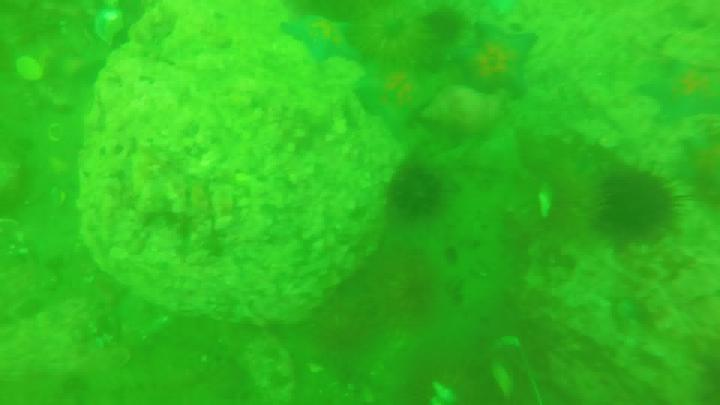echinus: (595, 164, 694, 249), (380, 161, 449, 223), (420, 7, 466, 47)
scallop: (15, 57, 43, 82), (46, 125, 68, 145)
starfish: (640, 53, 720, 127), (355, 65, 442, 130), (466, 23, 540, 99), (283, 10, 367, 66)
